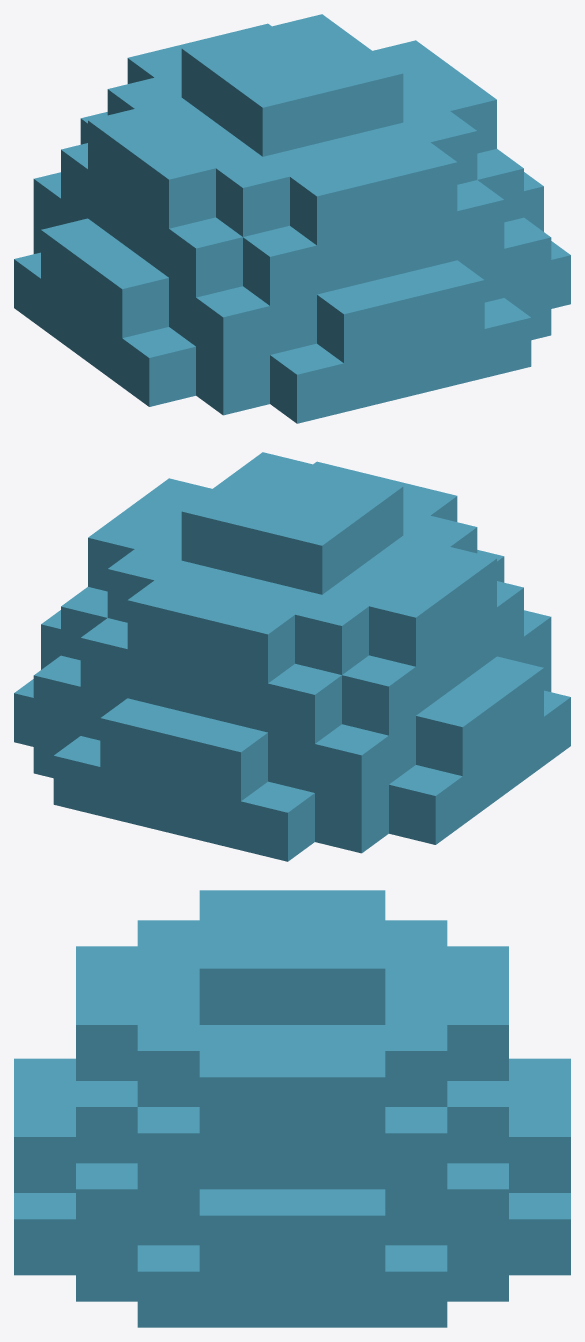
File: Light00-GlassB.gltf
The picture shows the model from 3 angles, top to bottom: view 1: azimuth 30°, elevation 25°; view 2: azimuth 150°, elevation 25°; view 3: azimuth 270°, elevation 25°; orthographic projection. The views are drawn at different scales.
Parts seen in each view (by area): view 1: Layer.1; view 2: Layer.1; view 3: Layer.1.
Part boxes in pixels (bbox=[...]): Layer.1: bbox=[14, 14, 570, 423]; Layer.1: bbox=[14, 452, 570, 861]; Layer.1: bbox=[14, 890, 570, 1327].
Bounding box in the file's own units: 9 × 5 × 9.
